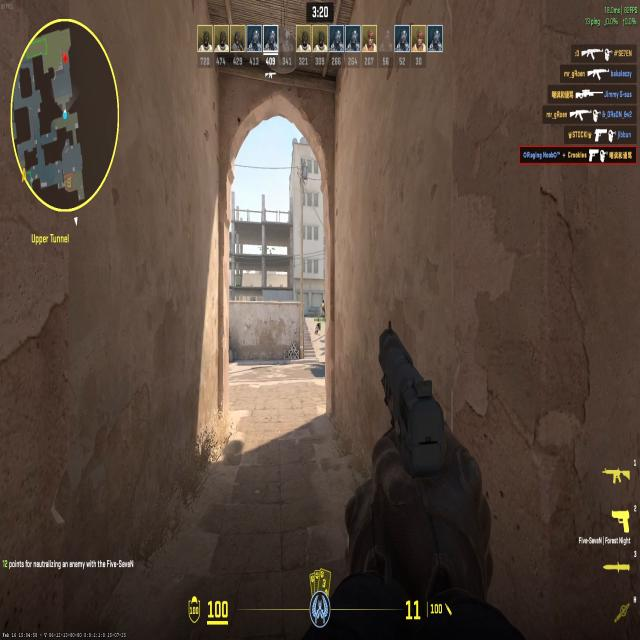player: (320, 300, 328, 316)
